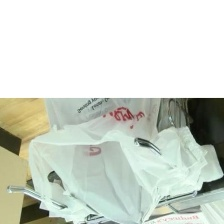plastic_bag: (27, 97, 222, 223)
